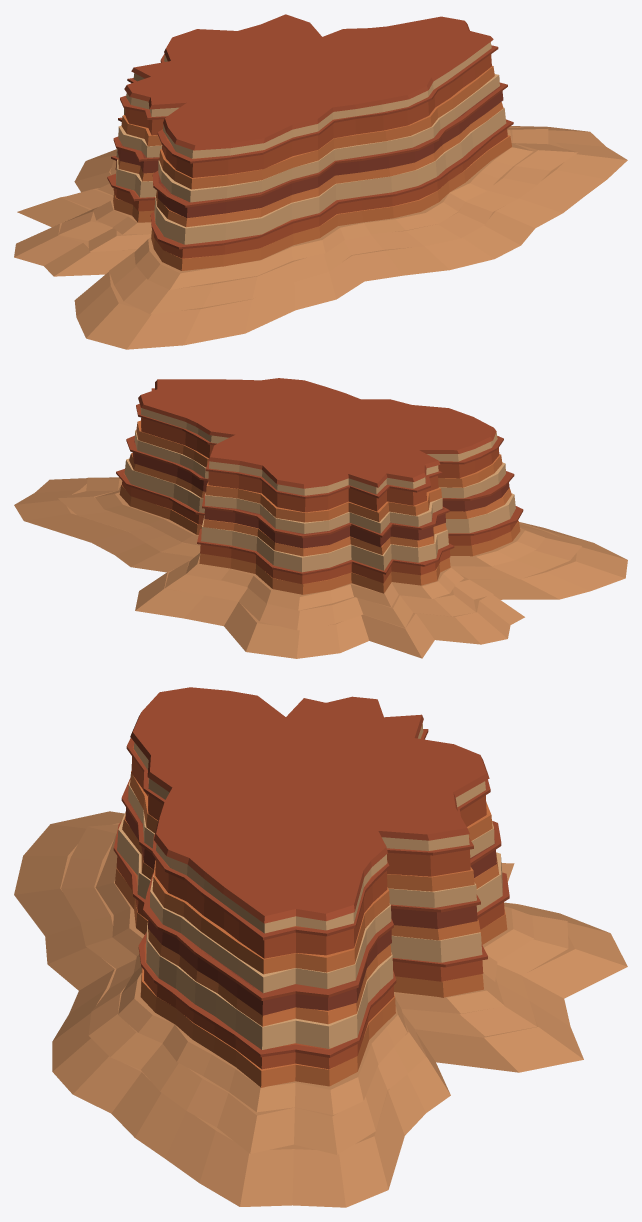
File: dune_mesa_a.glb
3 views of the same model, one above another, from view 1: azimuth 30°, elevation 25°; view 2: azimuth 150°, elevation 25°; view 3: azimuth 270°, elevation 25° (orthographic). The views are drawn at different scales.
Visible parts, largest first — view 1: MesaA; view 2: MesaA; view 3: MesaA.
Boxes of the visible parts, x1,y1,x2,y2 form: MesaA: (14, 14, 627, 349); MesaA: (14, 378, 627, 658); MesaA: (14, 687, 627, 1207).
Bounding box in the file's own units: 154 × 37 × 101.
